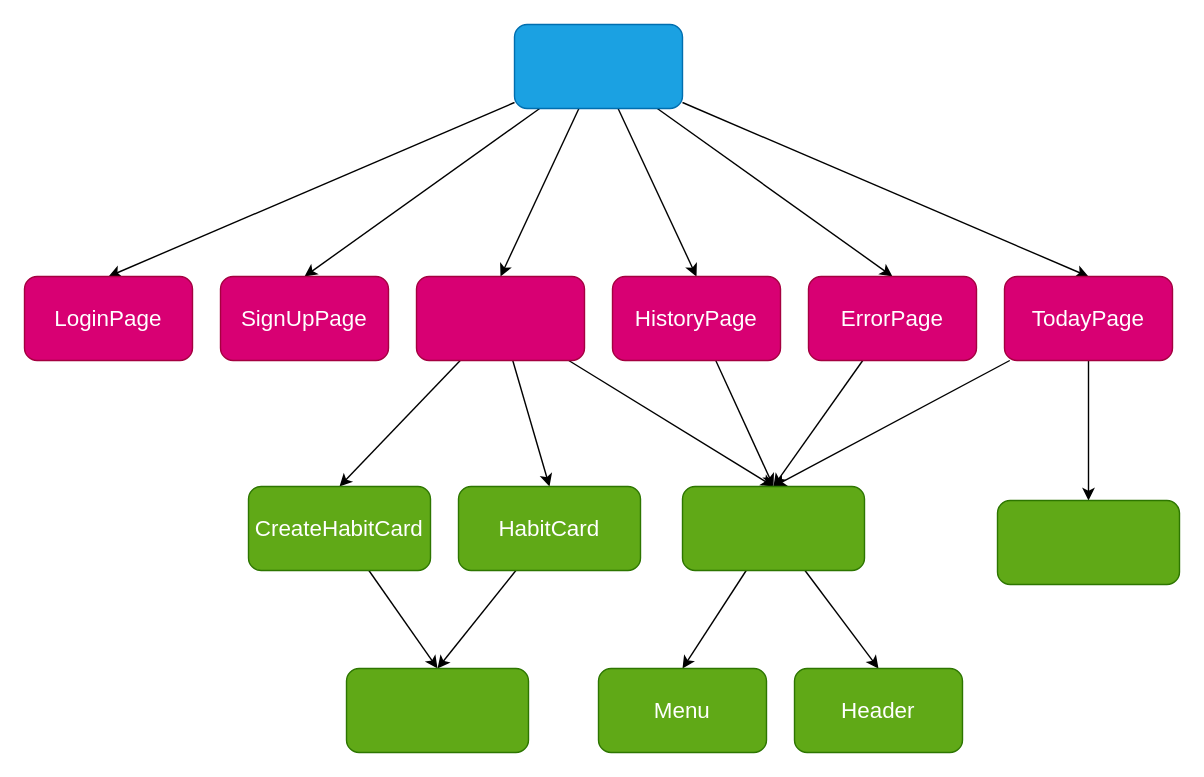
This 1204x777 diagram has some shape labels left out. The centre of each missing label's shape, as x and y in pixels:
App: (x=597, y=65)
HabitCheckCard: (x=1088, y=541)
HabitsPage: (x=499, y=317)
ScreenWithBars: (x=772, y=527)
WeekDayButtons: (x=436, y=709)
